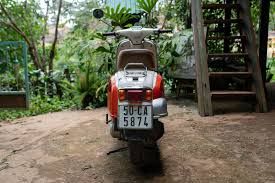Bien-so: (119, 105, 153, 129)
